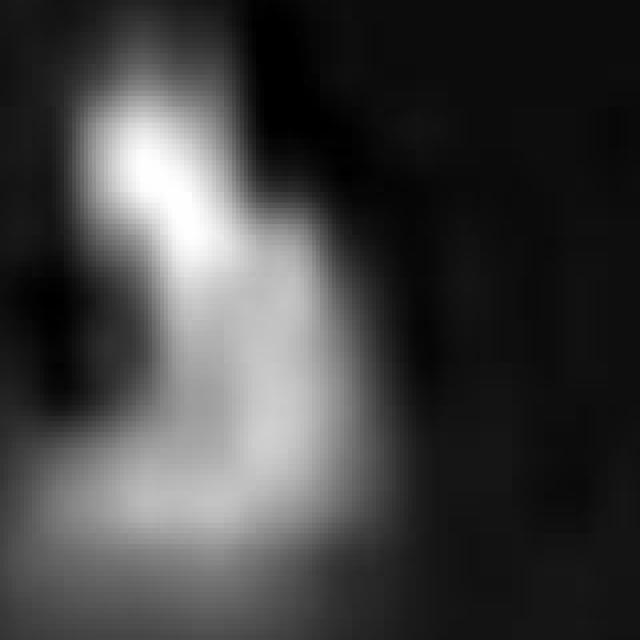person: (9, 1, 429, 640)
